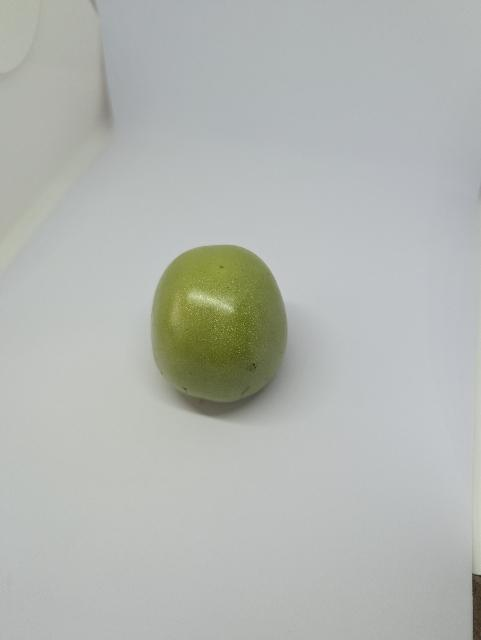green: (149, 242, 292, 403)
